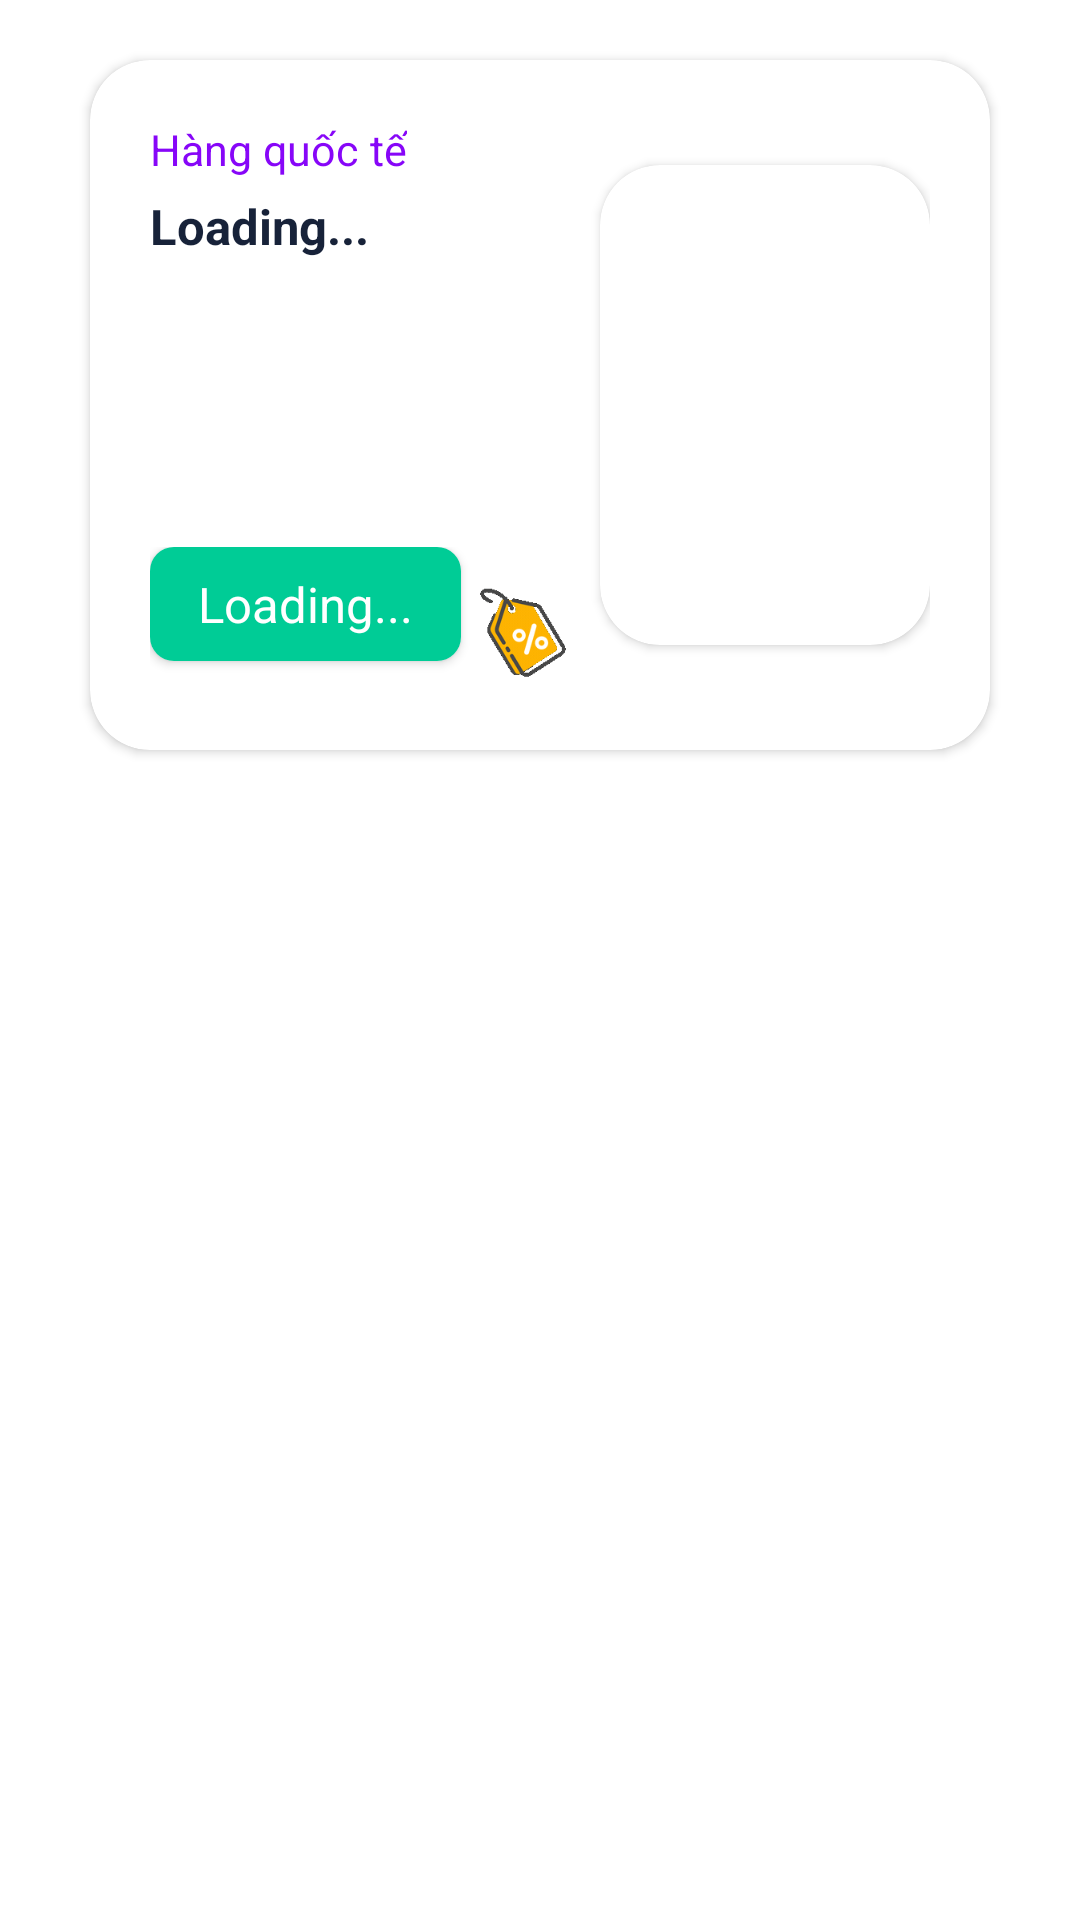

Icon click points for this 1080x1920 phone screenshot, format (x=x, y=y):
discount gif: (x=523, y=632)
